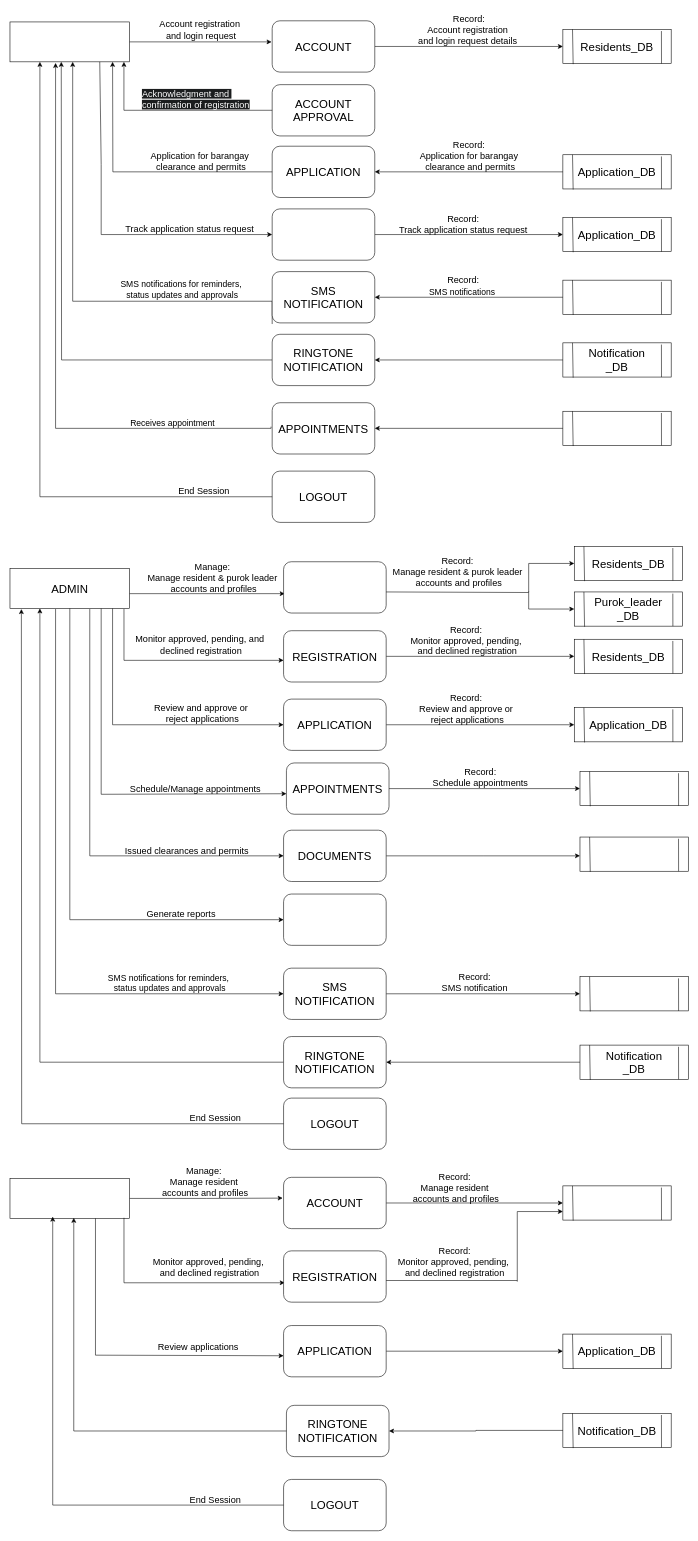
Some shapes in this 698 by 1541 pixel diagram are drawn without their labels. Here are the shapes that lost their labels. From the top down, the centre of each, then its label:
the point at 69,41: RESIDENT
the point at 323,234: TRACK APPLICATION
the point at 616,297: SMS _notification _DB
the point at 616,428: Appointments_DB
the point at 334,587: ACCOUNTS
the point at 633,788: Appointments _DB
the point at 633,853: Documents_DB
the point at 334,919: REPORTS
the point at 633,993: SMS_notification _DB
the point at 69,1198: PUROK LEADER
the point at 616,1202: Patient_DB
